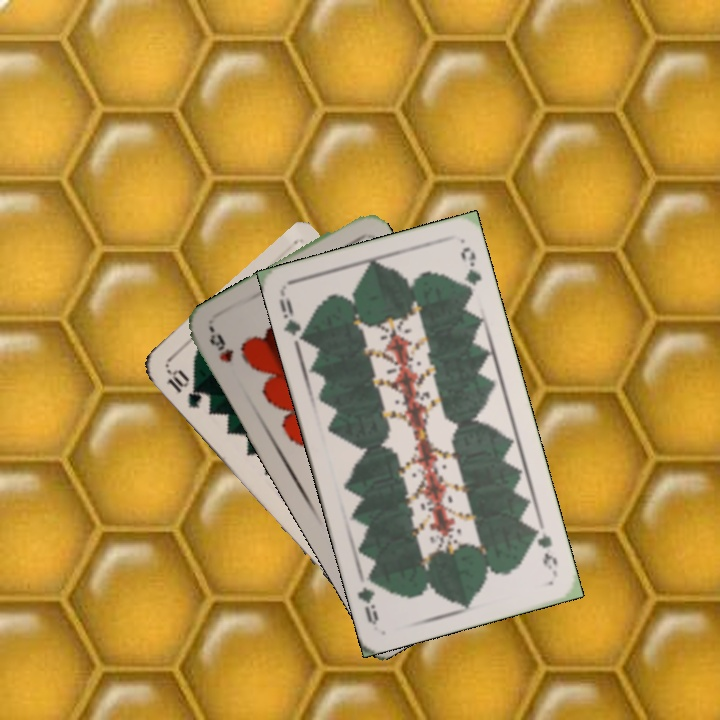G10: (162, 365, 205, 412)
G9: (275, 290, 310, 348), (527, 519, 560, 577)
H9: (205, 325, 237, 365)
